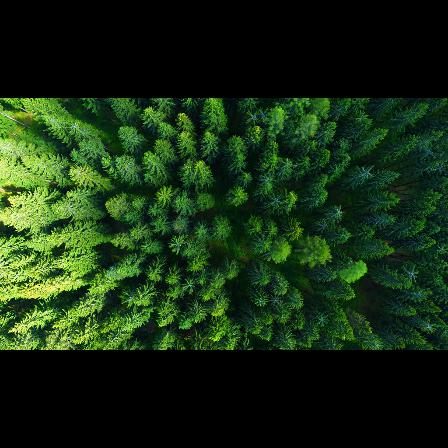Sick: (266, 191, 287, 210), (402, 262, 420, 282), (356, 164, 375, 181), (181, 275, 198, 294), (419, 318, 438, 335), (312, 311, 331, 327), (268, 291, 284, 309), (261, 171, 277, 187), (332, 205, 346, 220), (257, 105, 271, 120), (245, 110, 259, 123)
